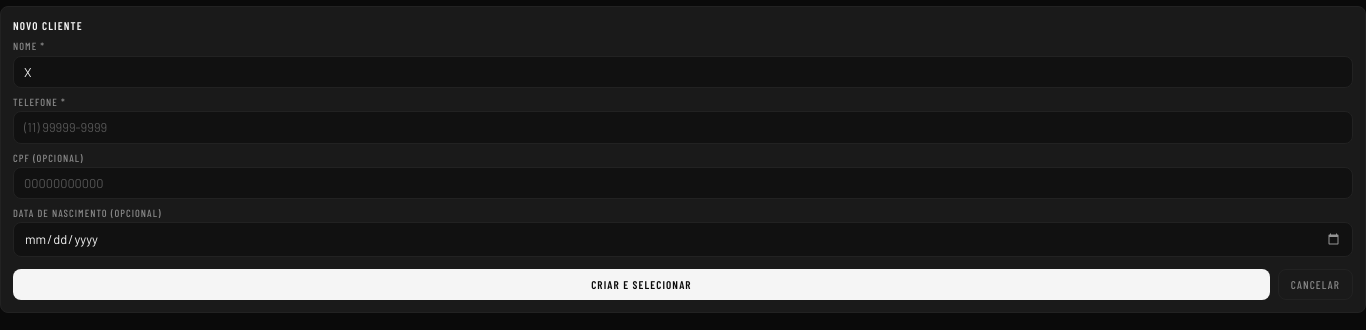
Scenario: QuickCreateCustomerForm › applies progressive Brazilian phone mask while user types
Note: Cada change re-mascara o valor.
Type "11" into the field with placeholder "(11) 99999-9999" at coordinates (683, 127), box [13, 111, 1353, 144]
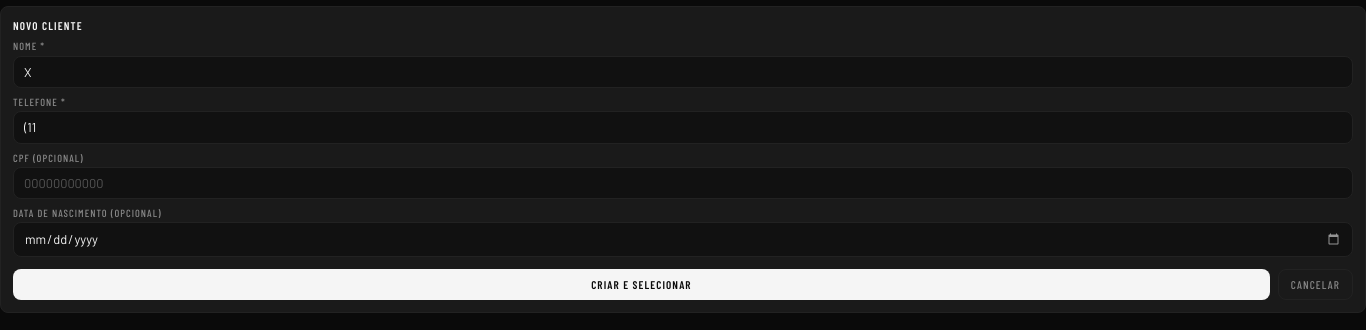
Now the field with placeholder "(11) 99999-9999" below "Telefone *" holds "(11"
Replace the text in the field with placeholder "(11) 99999-9999" below "Telefone *" with "(11) 9" at coordinates (683, 127), box [13, 111, 1353, 144]
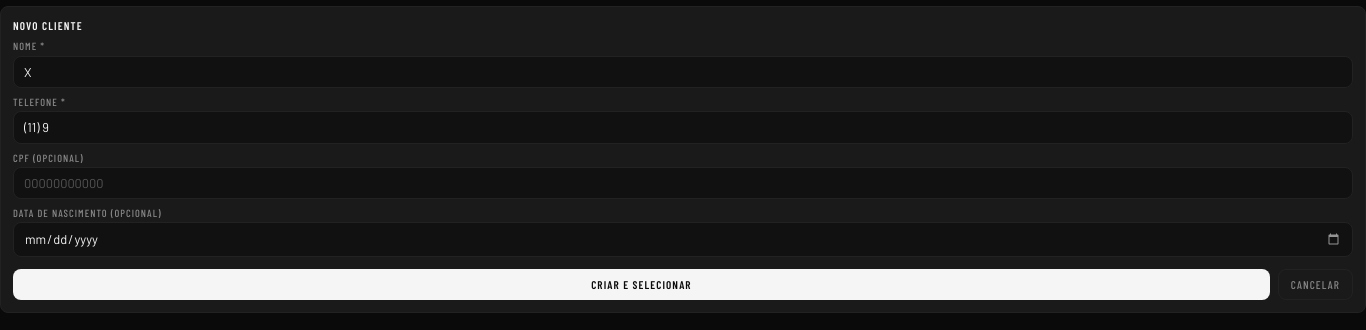
Replace the text in the field with placeholder "(11) 99999-9999" below "Telefone *" with "11912345678" at coordinates (683, 127), box [13, 111, 1353, 144]
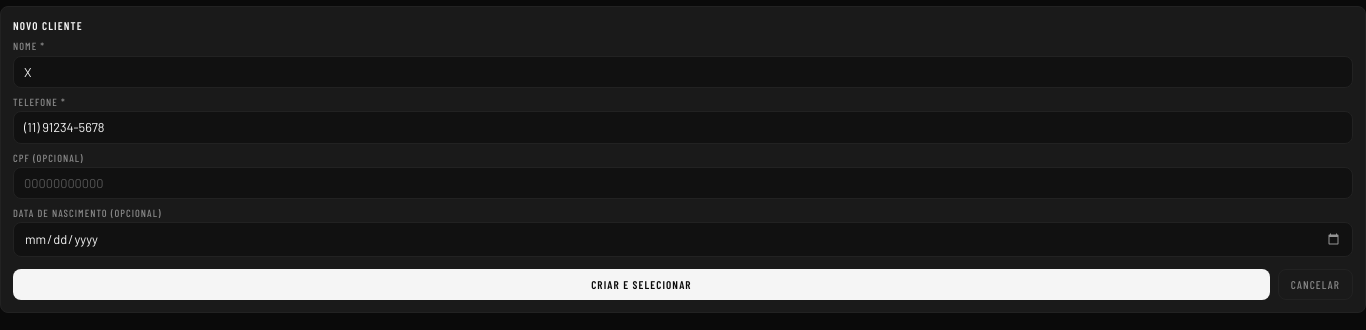
Now the field with placeholder "(11) 99999-9999" below "Telefone *" holds "(11) 91234-5678"
Note: Caracteres não-numéricos digitados são ignorados pela máscara.
Replace the text in the field with placeholder "(11) 99999-9999" below "Telefone *" with "(11) abcd-9999" at coordinates (683, 127), box [13, 111, 1353, 144]
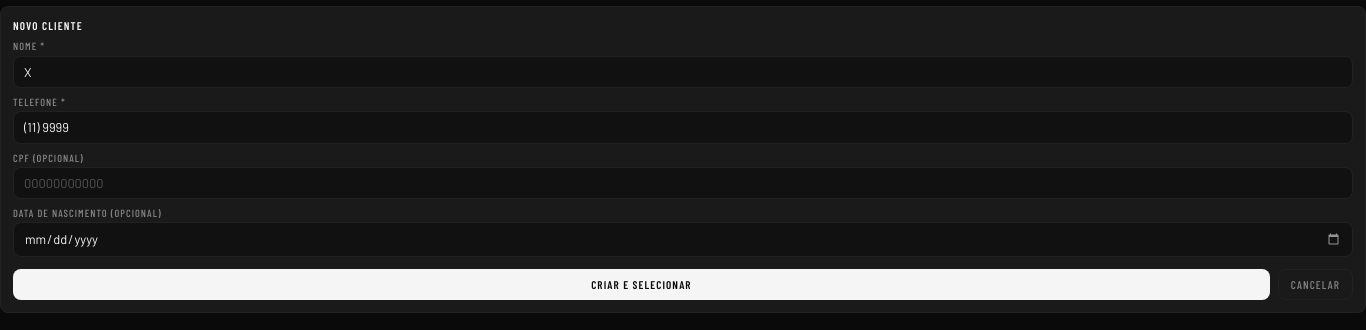
Now the field with placeholder "(11) 99999-9999" below "Telefone *" holds "(11) 9999", box [13, 111, 1353, 144]
